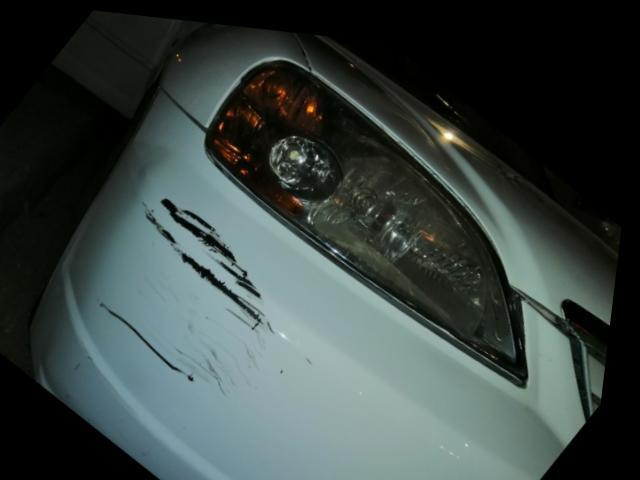scratch: (100, 190, 283, 396)
